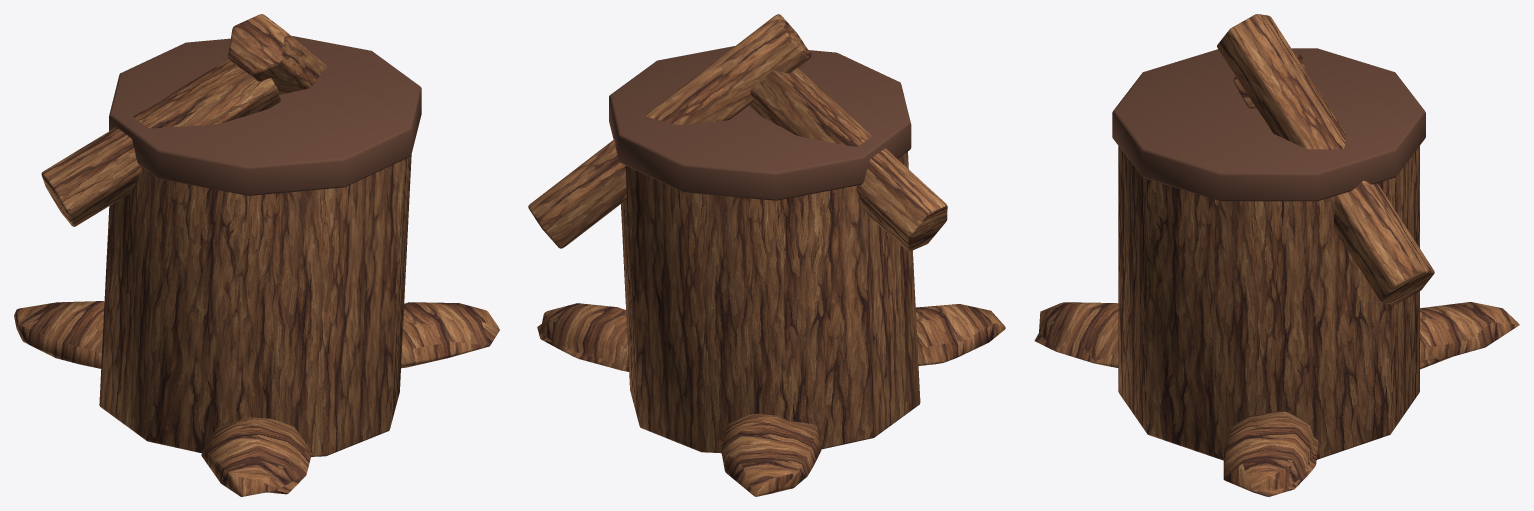
File: dead_stump.gltf
3 views of the same model, side by side, from view 1: azimuth 30°, elevation 25°; view 2: azimuth 150°, elevation 25°; view 3: azimuth 270°, elevation 25° (orthographic). The views are drawn at different scales.
Visible parts, largest first — view 1: dead_stump; view 2: dead_stump; view 3: dead_stump.
Boxes of the visible parts, x1,y1,x2,y2 form: dead_stump: (14,14,499,496); dead_stump: (528,14,1005,496); dead_stump: (1034,14,1519,496).
Bounding box in the file's own units: 2.44 × 2.14 × 2.41.
2 materials, 2 textured.
